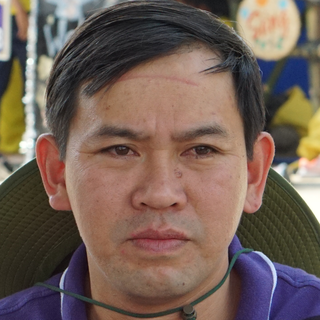eye: (178, 139, 227, 163), (93, 140, 143, 163)
